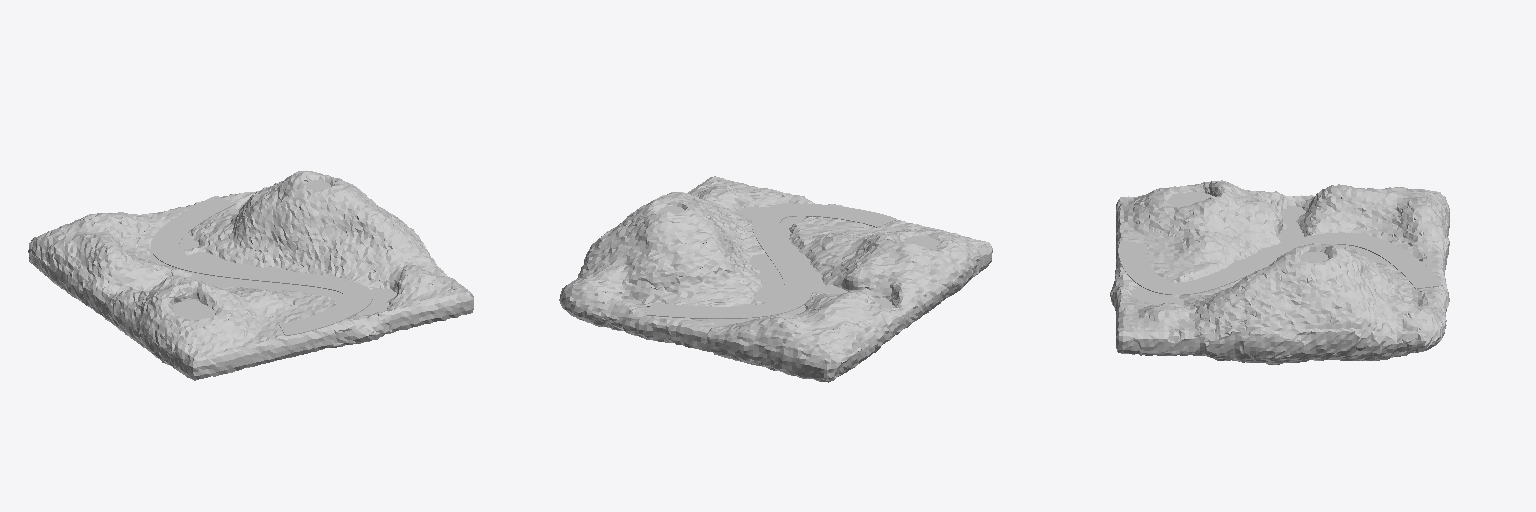
The model's file is Bridge of Doom.obj.
3 views of the same model, side by side, from view 1: azimuth 30°, elevation 25°; view 2: azimuth 150°, elevation 25°; view 3: azimuth 270°, elevation 25° (orthographic).
Parts seen in each view (by area): view 1: Terrain18, Terrain21, Terrain25, Terrain1, Path1_3, Terrain12, Terrain7, Part3, Terrain5, Terrain3, Terrain22, Terrain23 (+1 smaller); view 2: Terrain1, Terrain21, Terrain25, Path1_3, Terrain18, Part3, Terrain17, Terrain16, Terrain5, Terrain15, Terrain3, Terrain22 (+1 smaller); view 3: Terrain21, Terrain1, Terrain25, Terrain18, Path1_3, Terrain9, Terrain13, Terrain6, Terrain10, Part3, Terrain20.
Boxes of the visible parts, box(x1,y1,x2,y2) form: Terrain18: box(275, 194, 472, 324); Terrain21: box(110, 275, 331, 361); Terrain25: box(34, 209, 239, 298); Terrain1: box(173, 171, 384, 267); Path1_3: box(151, 196, 372, 334); Terrain12: box(193, 329, 335, 379); Terrain7: box(333, 294, 473, 347); Part3: box(117, 224, 396, 314); Terrain5: box(28, 249, 109, 321); Terrain3: box(108, 303, 193, 378); Terrain22: box(29, 237, 111, 301); Terrain23: box(113, 301, 174, 350); Terrain1: box(563, 194, 758, 327); Terrain21: box(800, 219, 990, 302); Terrain25: box(690, 278, 910, 354); Path1_3: box(645, 204, 896, 317); Terrain18: box(641, 176, 843, 263); Part3: box(622, 203, 894, 324); Terrain17: box(688, 328, 828, 382); Terrain16: box(565, 301, 689, 347); Terrain5: box(829, 303, 914, 381); Terrain15: box(708, 330, 829, 363); Terrain3: box(913, 246, 992, 321); Terrain22: box(830, 300, 912, 363); Terrain21: box(1120, 180, 1282, 267); Terrain1: box(1280, 243, 1443, 336); Terrain25: box(1280, 184, 1442, 268); Terrain18: box(1118, 256, 1281, 337); Path1_3: box(1118, 232, 1441, 294); Terrain9: box(1118, 336, 1280, 364); Terrain13: box(1280, 336, 1425, 363); Terrain6: box(1135, 313, 1281, 341); Terrain10: box(1279, 317, 1376, 342); Part3: box(1131, 206, 1417, 305); Terrain20: box(1286, 269, 1440, 362).
Bounding box in the file's own units: 276 × 79.53 × 269.